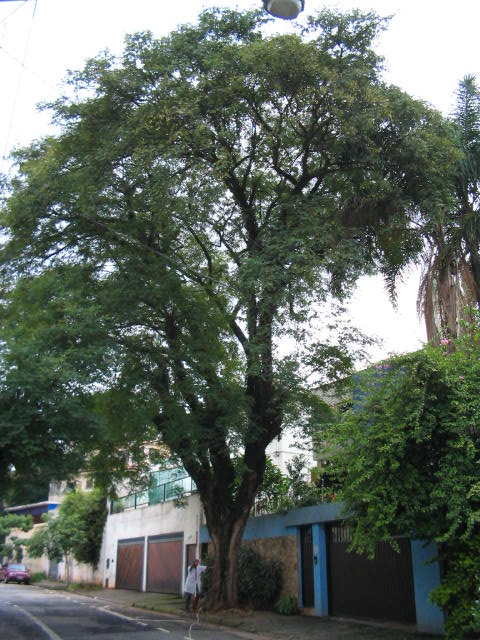crown: (11, 5, 459, 464)
stem: (206, 529, 251, 609)
stick: (188, 514, 204, 612)
tree: (9, 3, 463, 612)
